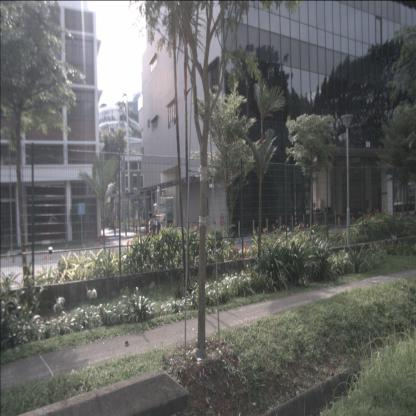human-pedestrian-adult: (152, 215, 161, 254), (148, 211, 154, 250)
